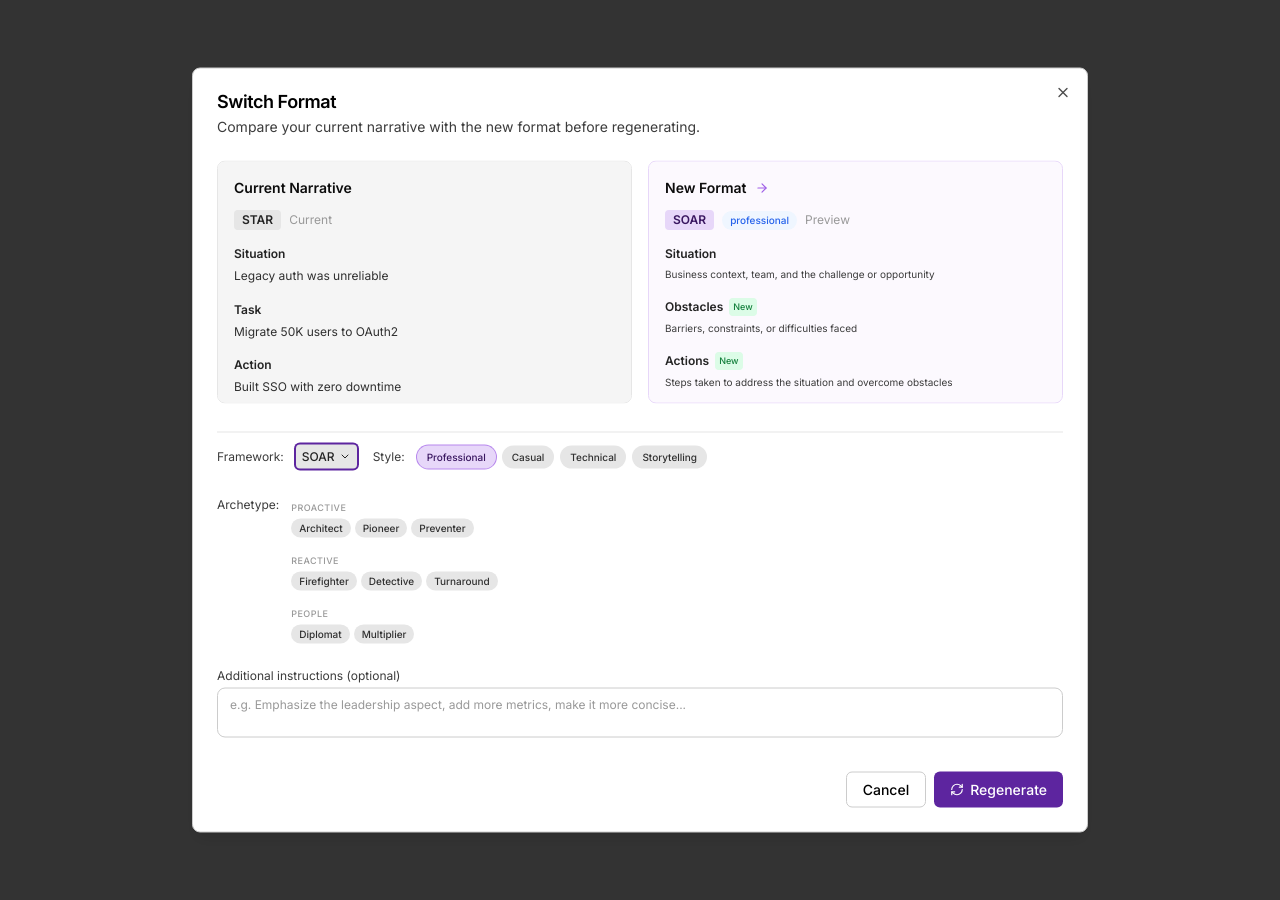
Scenario: FormatSwitchModal › Writing style selection › clicking a style pill updates the preview panel
Expected: the text "professional" is shown, [722, 210, 797, 229]
Note: Click Technical style pill
Click the button "Technical": (593, 456) [560, 445, 626, 468]
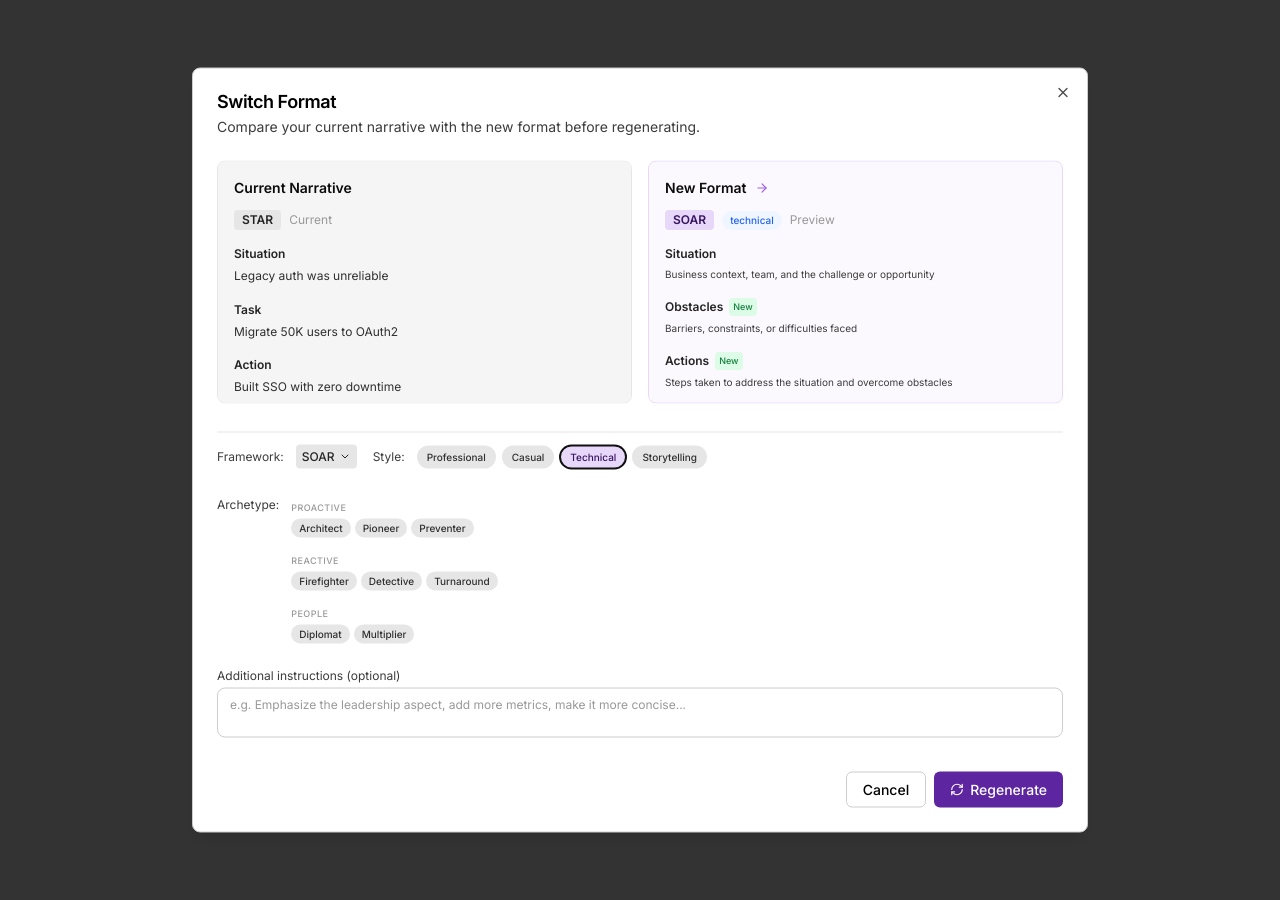
Expected: the text "technical" is shown, [722, 210, 782, 229]
